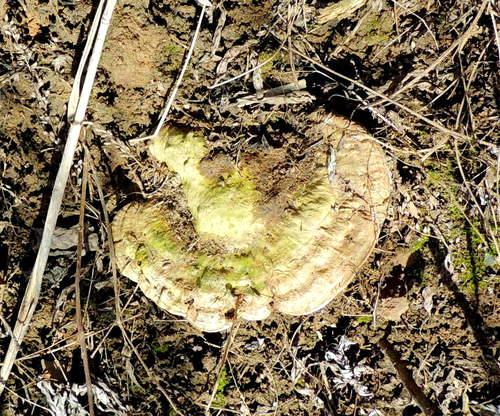Ganoderma - Fruit Body: (96, 109, 401, 335)
